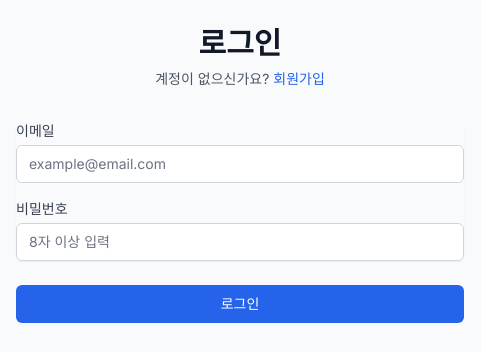
it: LoginPage › 폼 검증 › 빈 비밀번호로 제출 시 에러 메시지가 표시된다
Type "test@example.com" into the field labelled "이메일" at (240, 164), box [16, 145, 464, 183]
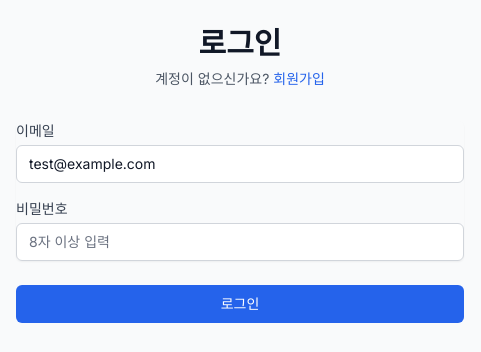
Click the button "로그인" at (240, 304), box [16, 285, 464, 323]
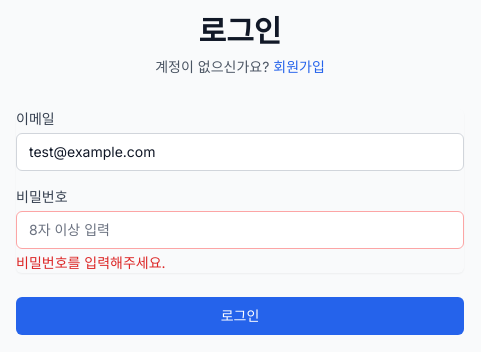
Expected: the text "비밀번호를 입력해주세요." is shown, [16, 254, 166, 271]
